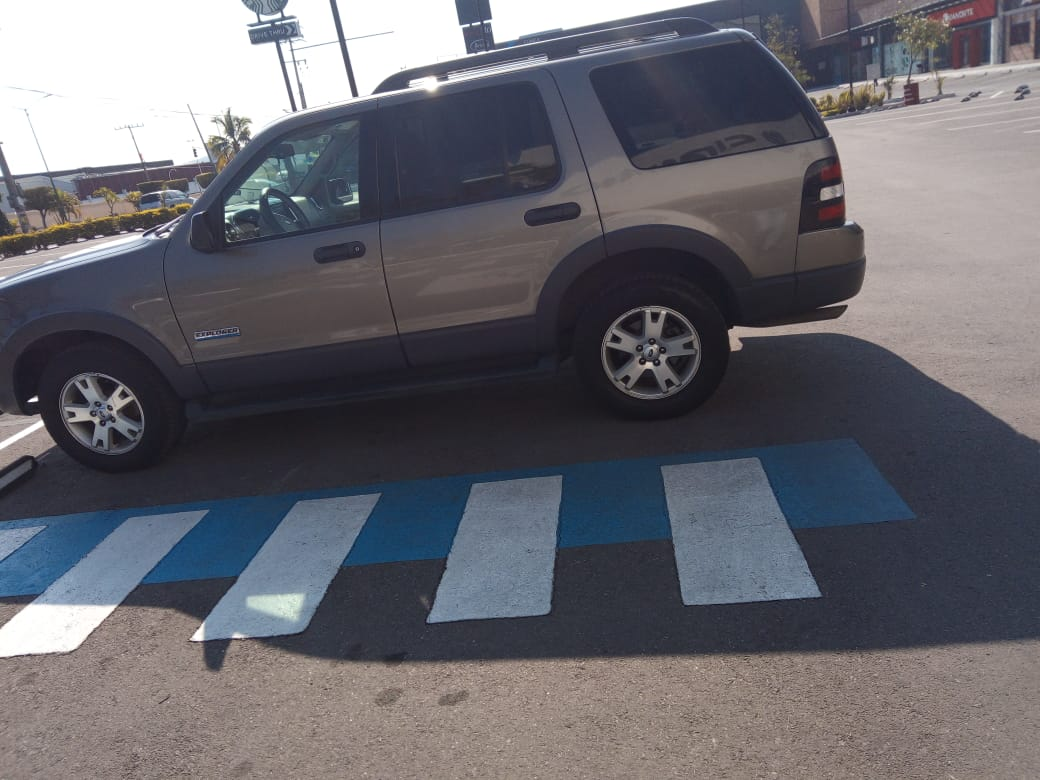Auto: (1, 16, 867, 470), (138, 190, 197, 214)
